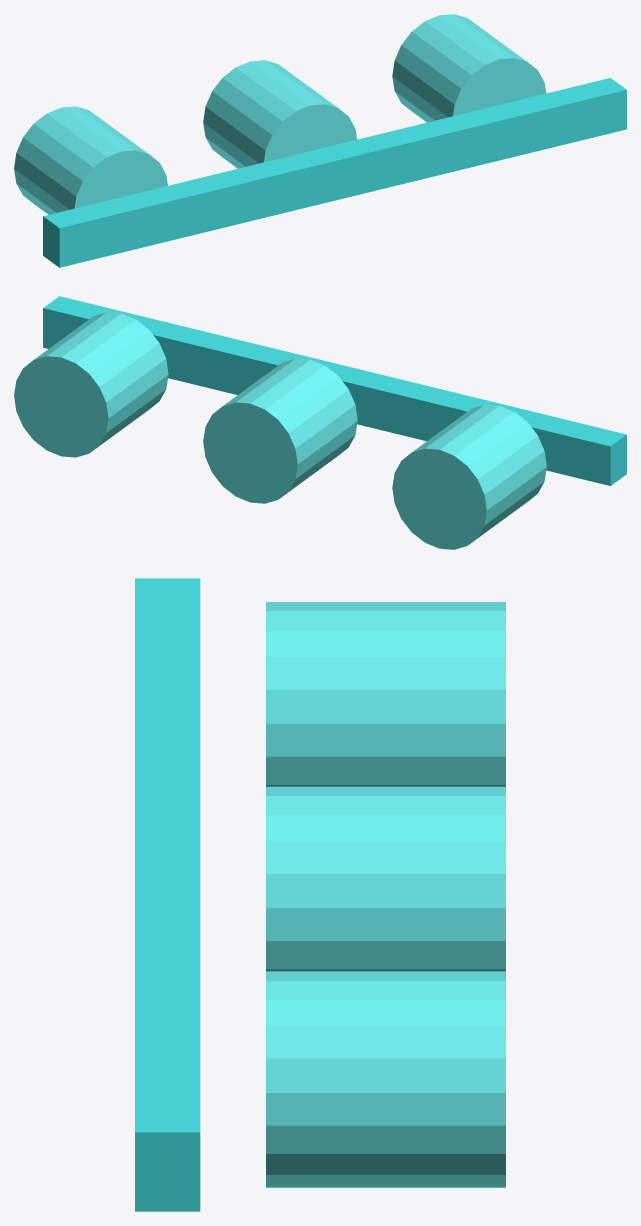
Rendered from track-light.glb.
3 renders of one model, top to bottom at view 1: azimuth 30°, elevation 25°; view 2: azimuth 150°, elevation 25°; view 3: azimuth 270°, elevation 25°, orthographic. The views are drawn at different scales.
Parts seen in each view (by area): view 1: world; view 2: world; view 3: world.
Part boxes in pixels (x1,y1,x2,y2): world: [14, 14, 626, 267]; world: [14, 296, 626, 549]; world: [135, 578, 505, 1211].
Size of the model in its own units: 1.2 by 0.2 by 0.34.
